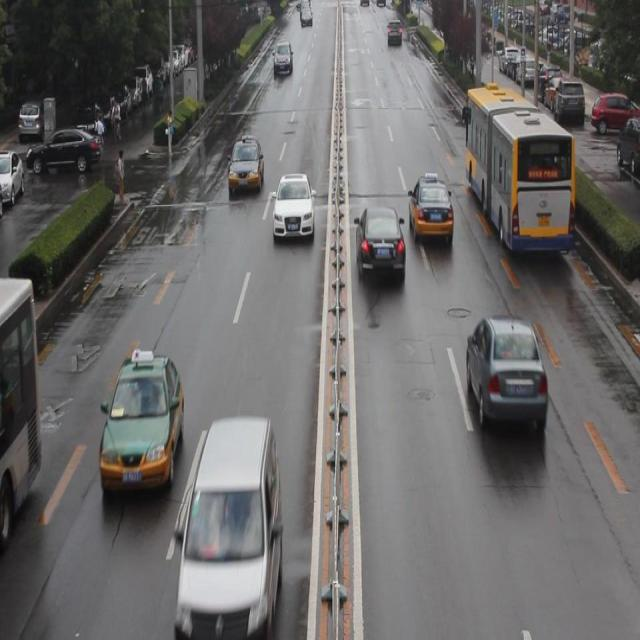car: (96, 350, 186, 497), (463, 312, 548, 436), (354, 204, 404, 288), (408, 176, 453, 248), (271, 174, 314, 246), (227, 136, 262, 194)
truck: (177, 418, 282, 630)
van: (465, 85, 575, 258), (0, 274, 42, 549)
